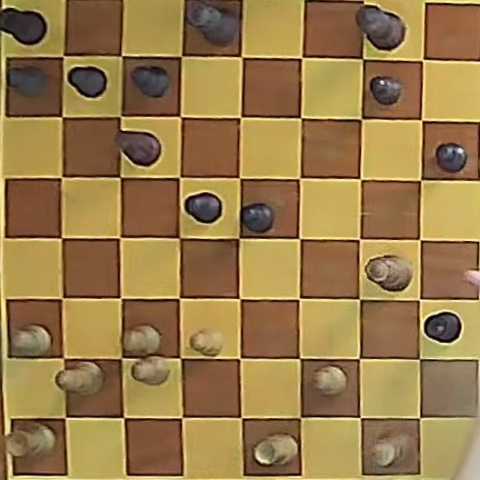black-bishop: (185, 193, 222, 224)
black-king: (355, 5, 405, 51)
black-knight: (115, 130, 160, 166)
black-pawn: (67, 66, 107, 99), (7, 66, 48, 98), (131, 65, 170, 98), (370, 76, 404, 106), (241, 203, 274, 233), (435, 143, 467, 173)
black-queen: (186, 1, 239, 46)
black-rook: (0, 7, 47, 46), (423, 311, 462, 344)
white-bishop: (56, 361, 103, 395)
white-king: (371, 433, 412, 468)
white-pawn: (10, 324, 51, 357), (131, 356, 171, 385), (123, 325, 161, 355), (312, 365, 348, 395), (190, 329, 223, 356)
white-queen: (365, 255, 412, 291)
white-rook: (6, 422, 56, 458), (253, 433, 298, 466)
